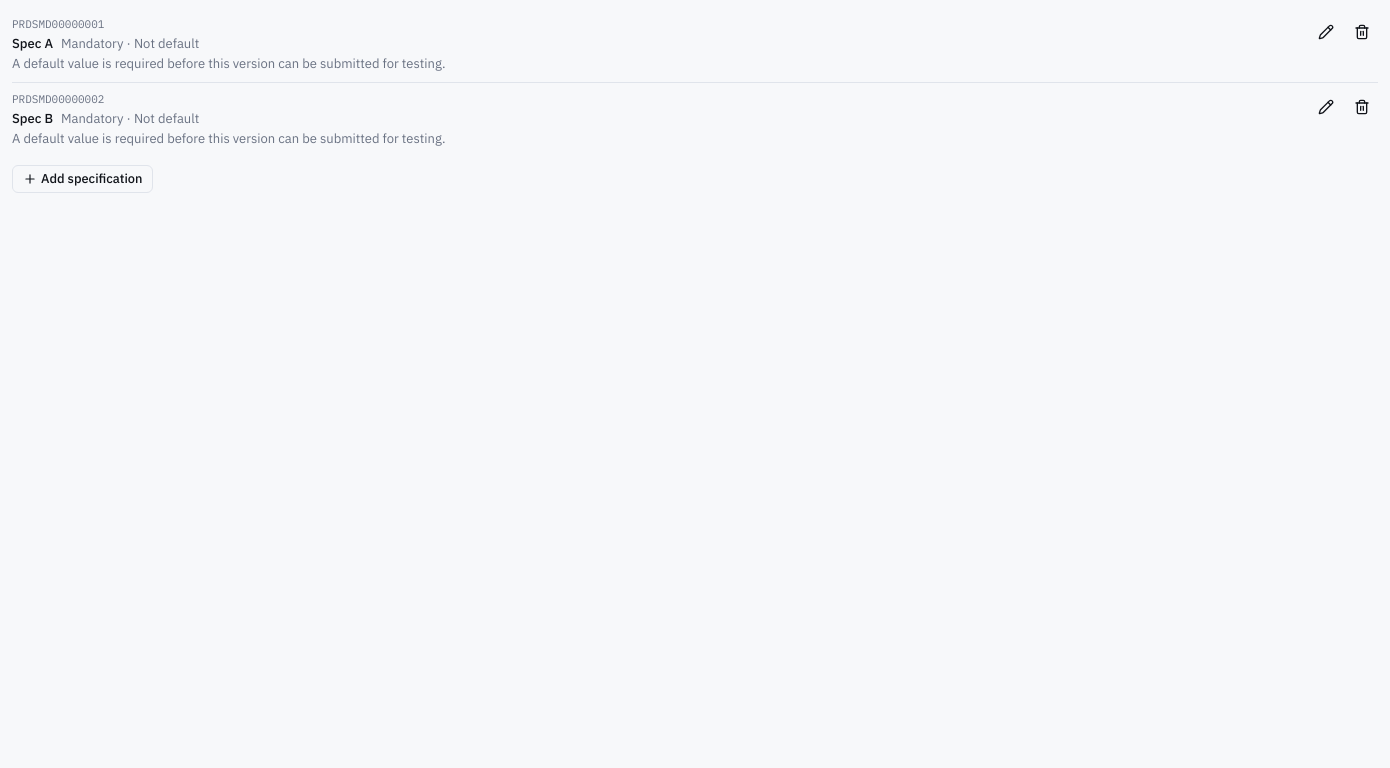
Test case: ManageSpecificationsPanel › activating a second row while the first is dirty prompts to discard (review #4/#5)
The width and height of the screenshot is (1390, 768).
Click the button named "Edit Spec A".
click(1326, 32)  # box [1310,16,1342,48]
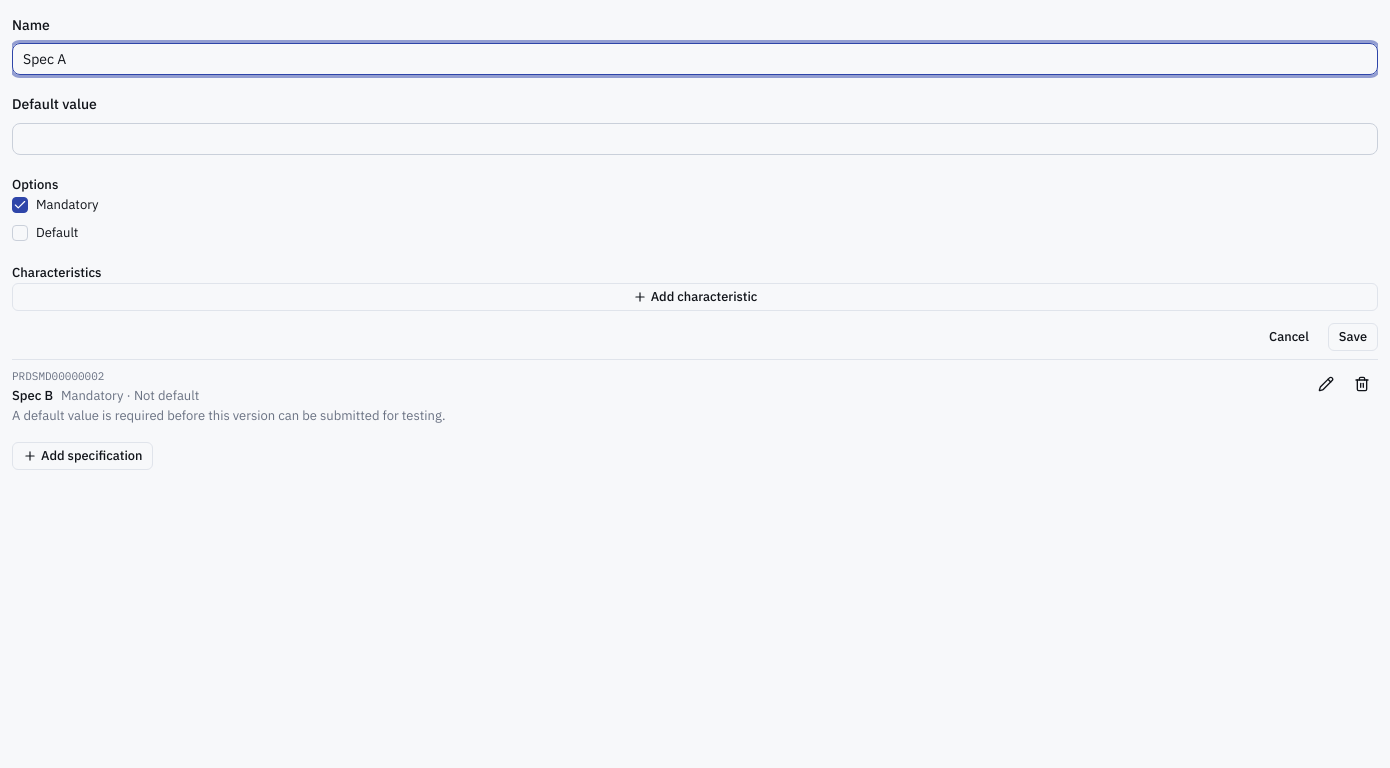
Type "X" into the field labelled "Name".
click(695, 59); type("X")  # box [12,43,1378,75]
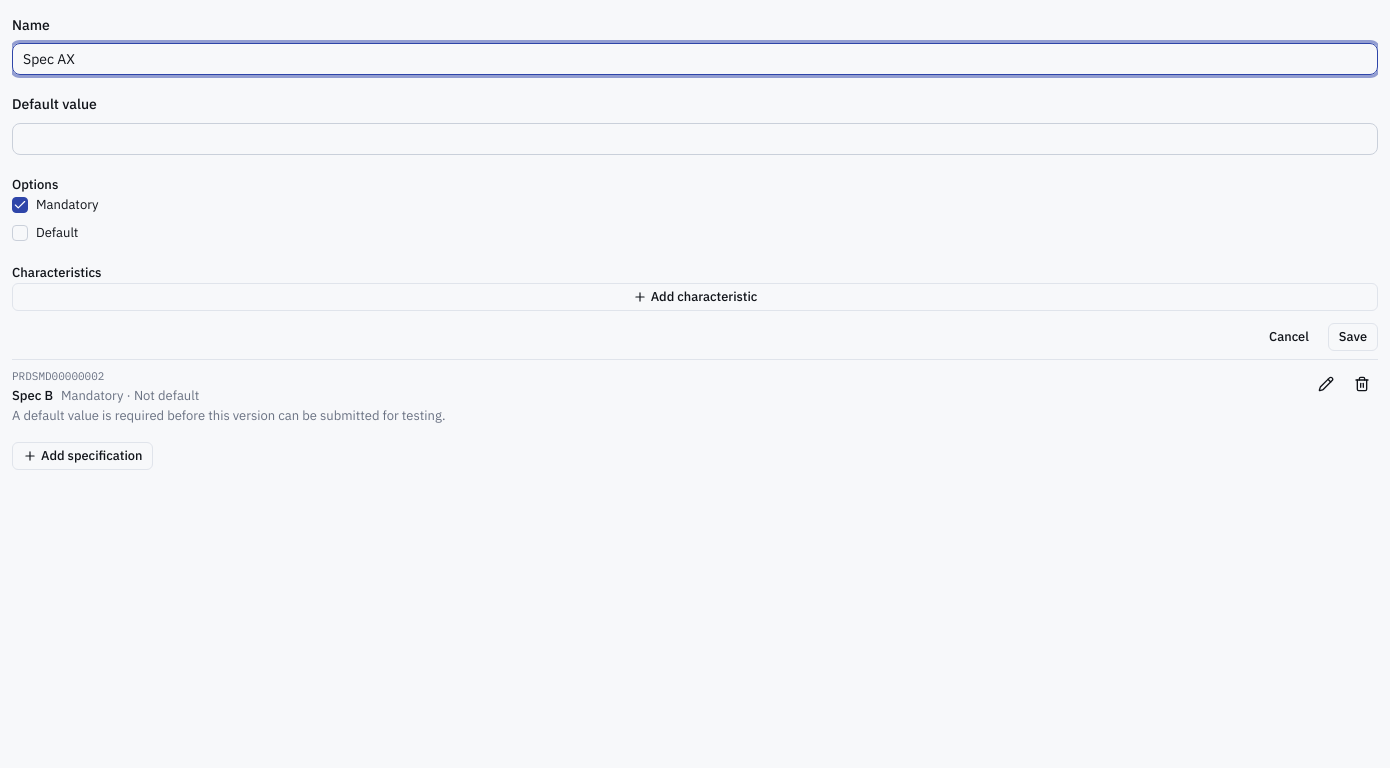
Click the button named "Edit Spec B".
click(1326, 384)  # box [1310,368,1342,400]
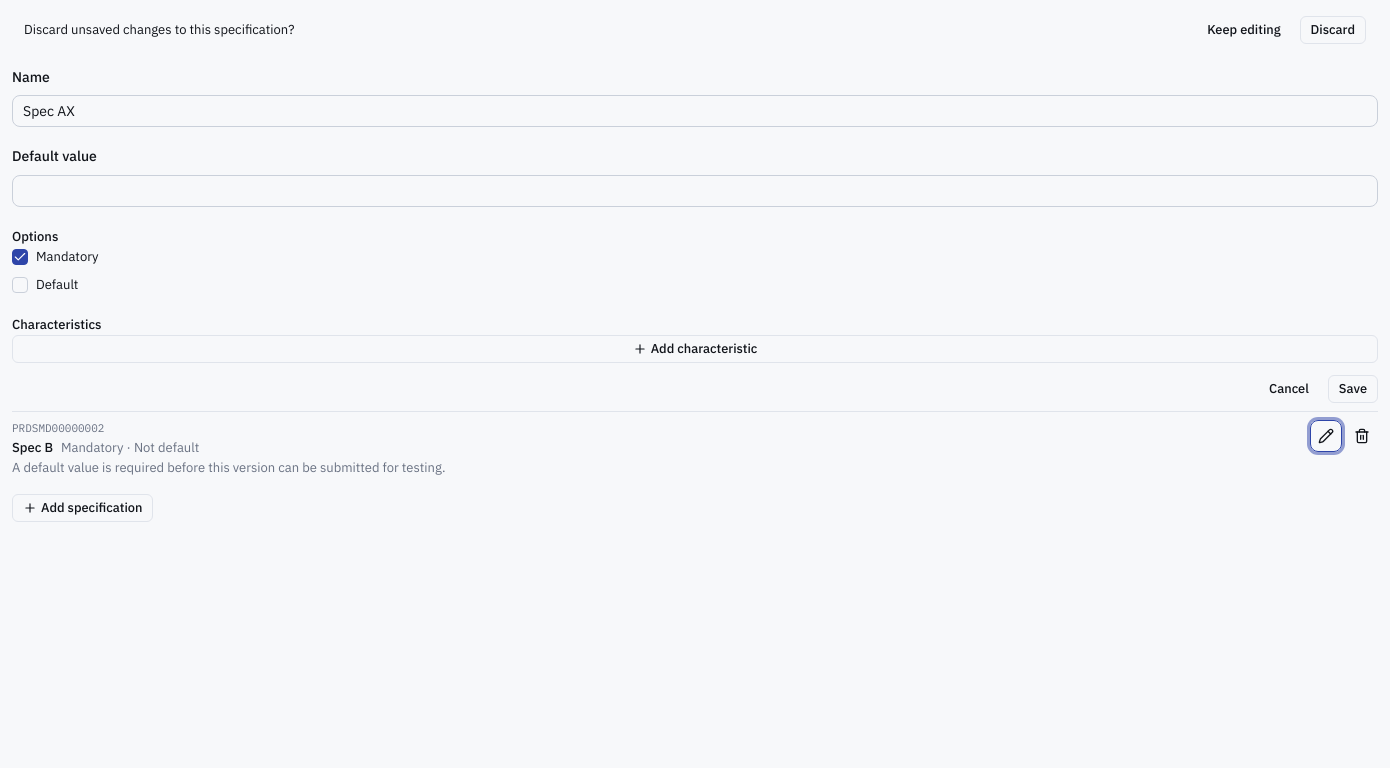
Now the text "Discard unsaved changes to this specification?" is shown, box [24,20,294,40]
# Keep editing dismisses the prompt without switching.
Click the button "Keep editing".
click(1244, 30)  # box [1196,16,1292,44]
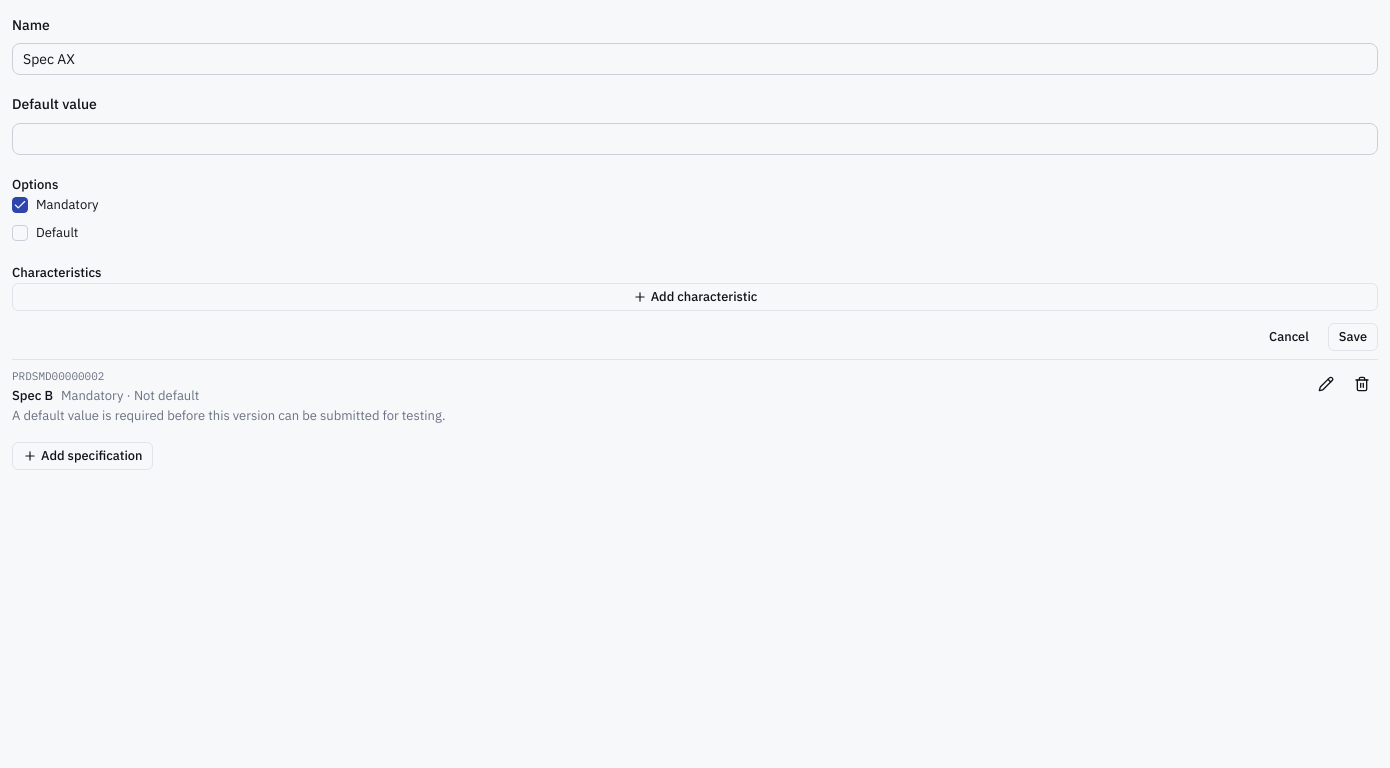
Now the field labelled "Name" holds "Spec AX", box [12,43,1378,75]
Now the text "Discard unsaved changes to this specification?" is gone
# Re-request, then Discard switches to Spec B's fresh (unmodified) editor.
Click the button named "Edit Spec B".
click(1326, 384)  # box [1310,368,1342,400]
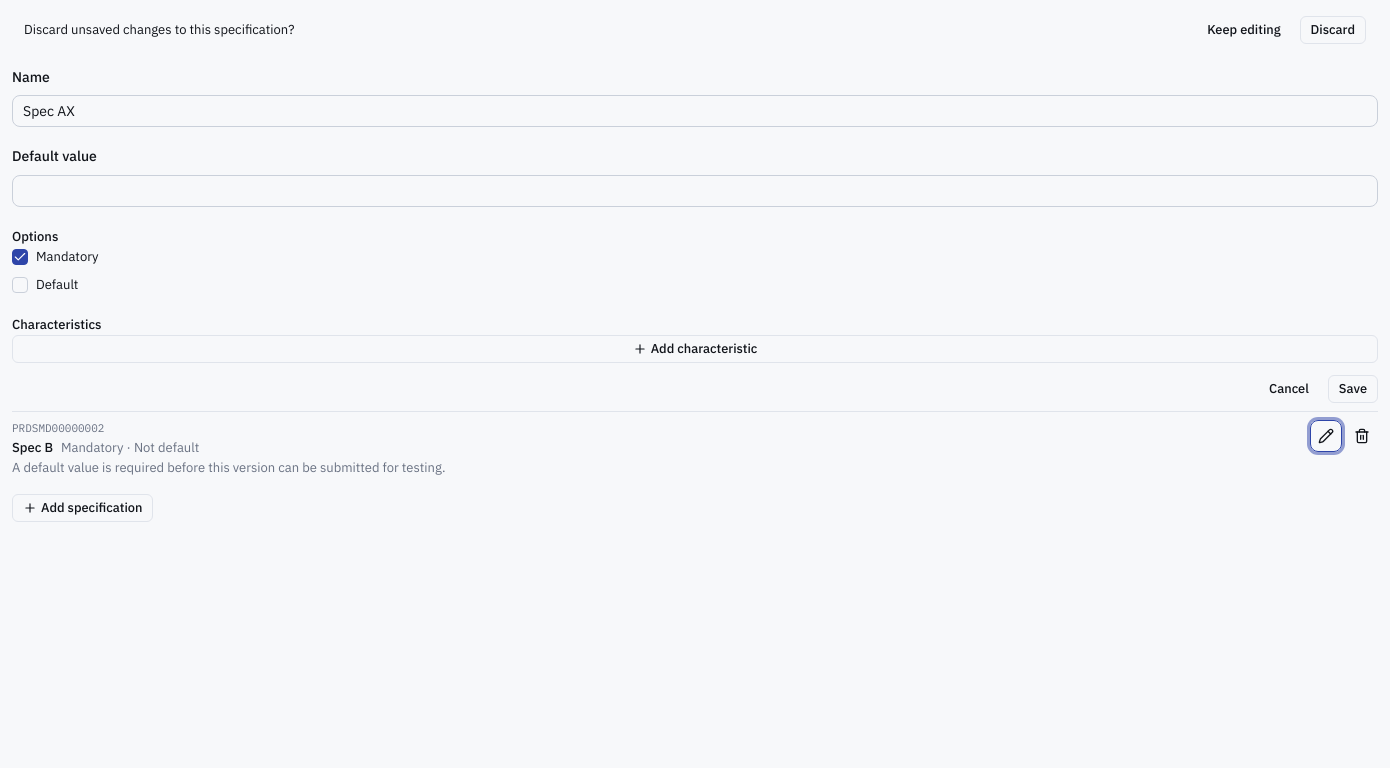
Click the button "Discard".
click(1333, 30)  # box [1300,16,1366,44]
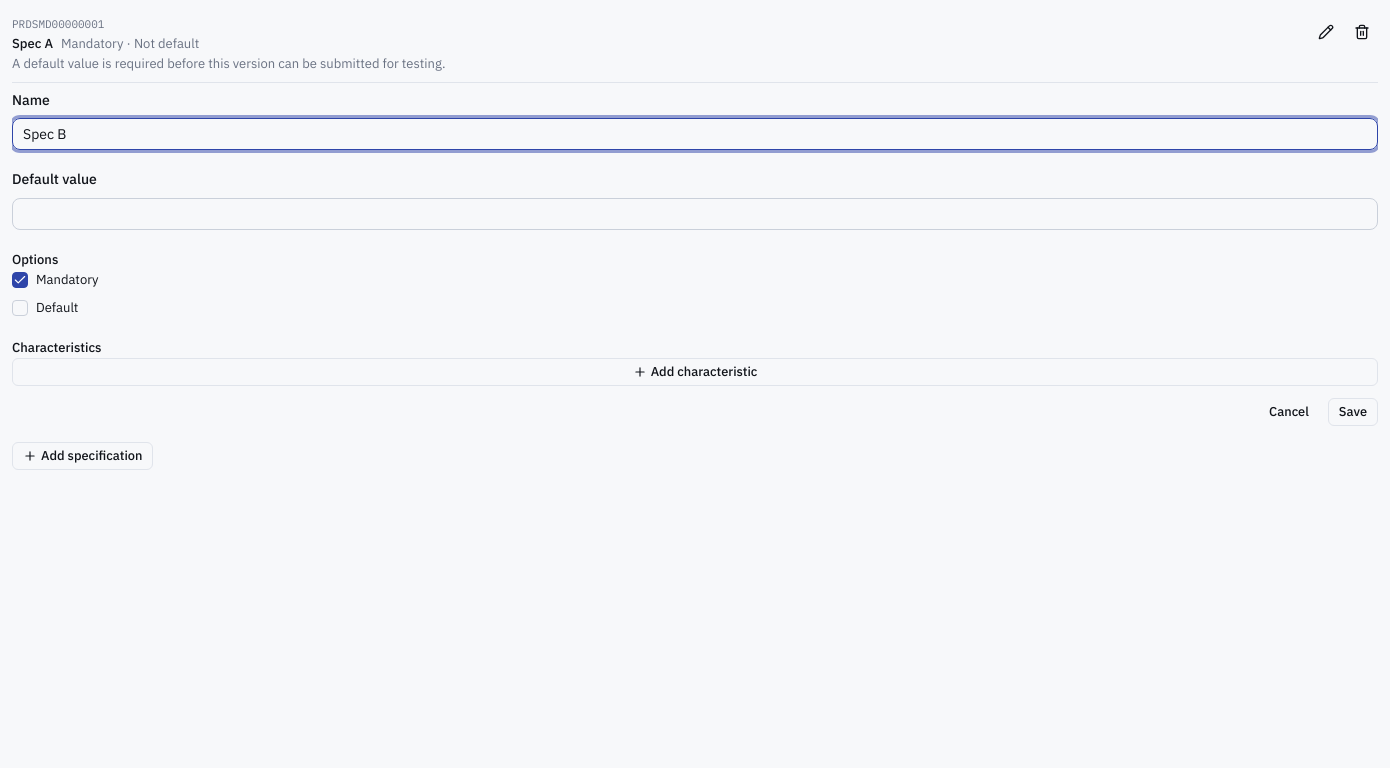
Expected: the button named "Edit Spec A" is shown, [1310,16,1342,48]
Now the field labelled "Name" holds "Spec B", box [12,118,1378,150]
